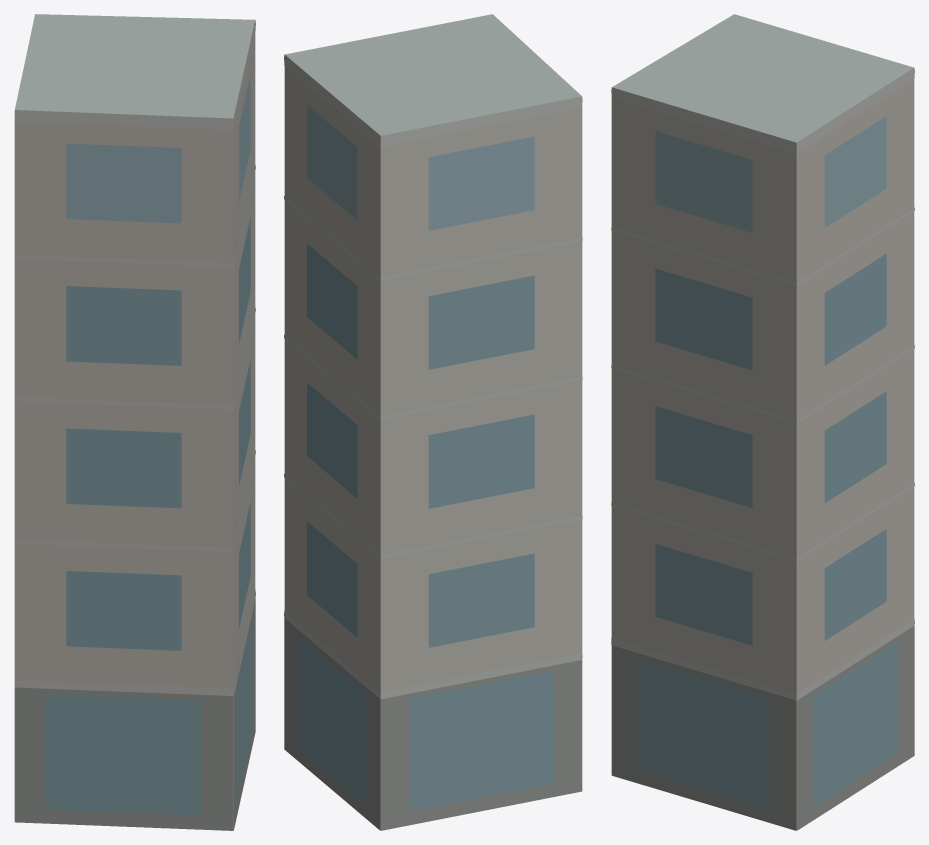
File: survey-upis-32708610.glb
3 renders of one model, left to right at view 1: azimuth 30°, elevation 25°; view 2: azimuth 150°, elevation 25°; view 3: azimuth 270°, elevation 25°, orthographic. The views are drawn at different scales.
Visible parts, largest first — view 1: survey-upis-32708610.tmp; view 2: survey-upis-32708610.tmp; view 3: survey-upis-32708610.tmp.
Boxes of the visible parts, box(x1,y1,x2,y2) form: survey-upis-32708610.tmp: box(14, 14, 255, 830); survey-upis-32708610.tmp: box(284, 14, 582, 830); survey-upis-32708610.tmp: box(611, 14, 914, 830).
Size of the model in its own units: 6.13 by 15.25 by 6.1.
